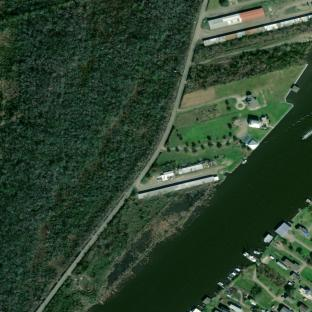Floresta: (0, 0, 200, 312), (186, 42, 312, 93), (193, 21, 312, 62), (257, 264, 286, 287)
